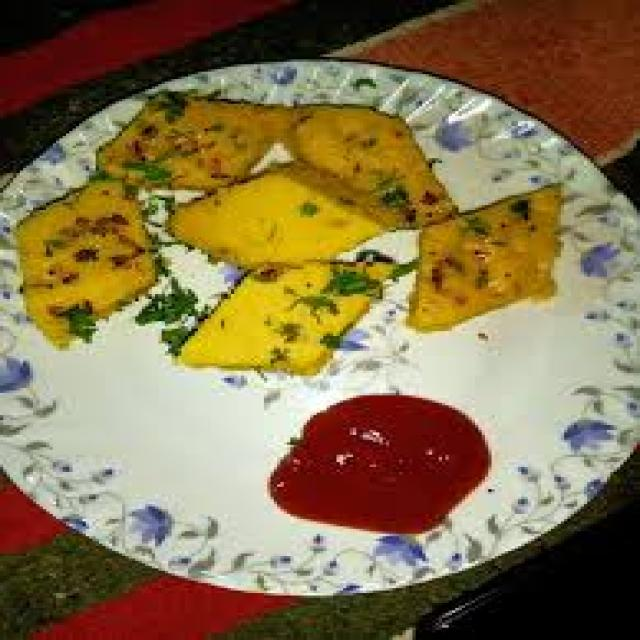DHOKLA: (16, 180, 152, 346), (406, 185, 554, 329), (178, 264, 369, 373), (168, 171, 379, 267), (129, 89, 208, 124)
